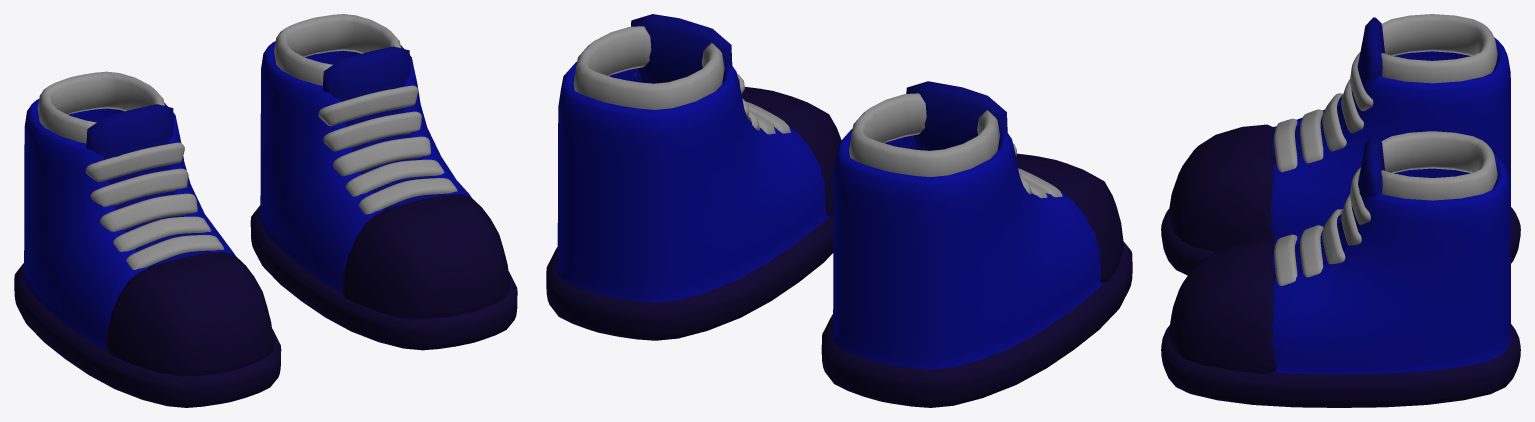
The model's file is Shoes.fbx.
The picture shows the model from 3 angles, left to right: view 1: azimuth 30°, elevation 25°; view 2: azimuth 150°, elevation 25°; view 3: azimuth 270°, elevation 25°; orthographic projection. The views are drawn at different scales.
Visible parts, largest first — view 1: R-Shoe, L-Shoe, L-Toecap, R-Toes, L-Lace, R-Lace, R-Sole, L-Sole, R-Inside, L-Inside, R-Tongue, L-Tongue; view 2: R-Shoe, L-Shoe, R-Sole, L-Sole, L-Inside, R-Inside, R-Toes, R-Tongue, L-Tongue, L-Toecap, L-Lace, R-Lace; view 3: L-Shoe, R-Shoe, L-Sole, L-Toecap, R-Toes, R-Inside, L-Inside, R-Lace, L-Lace, R-Tongue, L-Tongue, R-Sole.
Part boxes in pixels (<box>): R-Shoe: <box>23,99,235,350</box>; L-Shoe: <box>259,41,471,294</box>; L-Toecap: <box>342,194,509,318</box>; R-Toes: <box>105,252,273,376</box>; L-Lace: <box>318,85,457,214</box>; R-Lace: <box>85,142,224,269</box>; R-Sole: <box>14,263,281,407</box>; L-Sole: <box>250,205,517,350</box>; R-Inside: <box>37,71,164,143</box>; L-Inside: <box>274,14,400,85</box>; R-Tongue: <box>86,104,206,267</box>; L-Tongue: <box>322,46,443,209</box>; R-Shoe: <box>832,128,1102,369</box>; L-Shoe: <box>556,61,829,302</box>; R-Sole: <box>821,241,1132,407</box>; L-Sole: <box>546,216,833,340</box>; L-Inside: <box>573,26,724,109</box>; R-Inside: <box>849,93,999,176</box>; R-Toes: <box>1016,153,1123,282</box>; R-Tongue: <box>906,81,1007,150</box>; L-Tongue: <box>631,14,732,83</box>; L-Toecap: <box>741,87,841,216</box>; L-Lace: <box>635,72,790,134</box>; R-Lace: <box>1013,143,1062,198</box>; L-Shoe: <box>1271,154,1511,374</box>; R-Shoe: <box>1270,37,1511,243</box>; L-Sole: <box>1161,324,1520,407</box>; L-Toecap: <box>1169,241,1276,373</box>; R-Toes: <box>1169,124,1276,251</box>; R-Inside: <box>1381,14,1497,83</box>; L-Inside: <box>1381,131,1497,200</box>; R-Lace: <box>1274,52,1373,172</box>; L-Lace: <box>1274,167,1370,285</box>; R-Tongue: <box>1271,17,1384,156</box>; L-Tongue: <box>1271,134,1384,274</box>; R-Sole: <box>1161,207,1520,275</box>.
Bounding box in the file's own units: 50.41 × 25.64 × 37.56.
